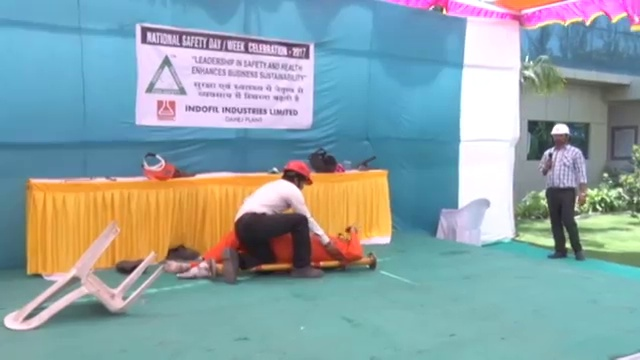helmet: (283, 159, 314, 188), (548, 122, 572, 137)
helmet_on: (282, 157, 314, 193), (547, 120, 572, 147)
person: (220, 157, 327, 284), (166, 226, 365, 280), (539, 120, 588, 263)
